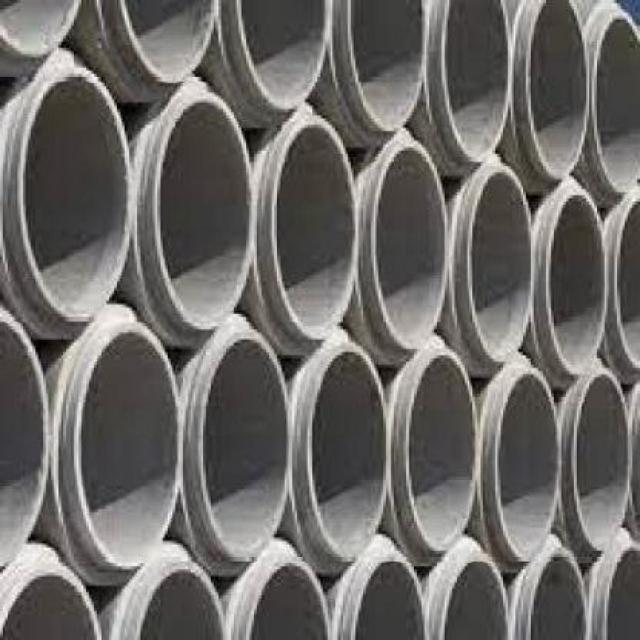pipe: (62, 315, 185, 572), (13, 69, 136, 322), (145, 93, 258, 330), (196, 330, 303, 569), (265, 111, 362, 341), (296, 341, 391, 568), (363, 144, 453, 355), (397, 347, 487, 556), (456, 163, 541, 365), (488, 368, 561, 570), (0, 303, 54, 571), (565, 365, 636, 559), (524, 0, 594, 180), (342, 0, 433, 134), (546, 188, 609, 377), (440, 0, 509, 160), (239, 0, 330, 111), (107, 0, 224, 84), (0, 552, 106, 640), (592, 7, 640, 198), (341, 550, 435, 640), (128, 558, 231, 640), (242, 555, 335, 640), (522, 543, 595, 640), (437, 545, 510, 640), (0, 0, 84, 69), (613, 191, 640, 374), (600, 541, 640, 640)
